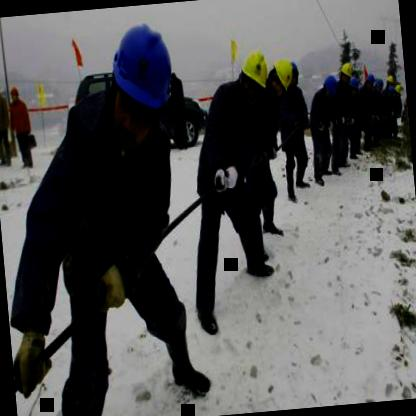helmet: (104, 20, 178, 156), (236, 43, 274, 106), (271, 57, 295, 97), (322, 74, 340, 102), (6, 82, 22, 107), (346, 76, 362, 99), (338, 60, 353, 83), (372, 76, 386, 98), (364, 70, 378, 90)
